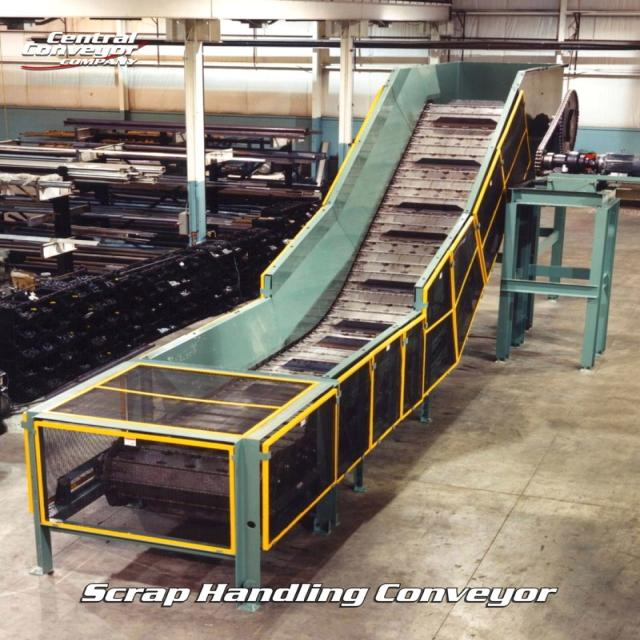conveyor: (19, 79, 614, 555)
